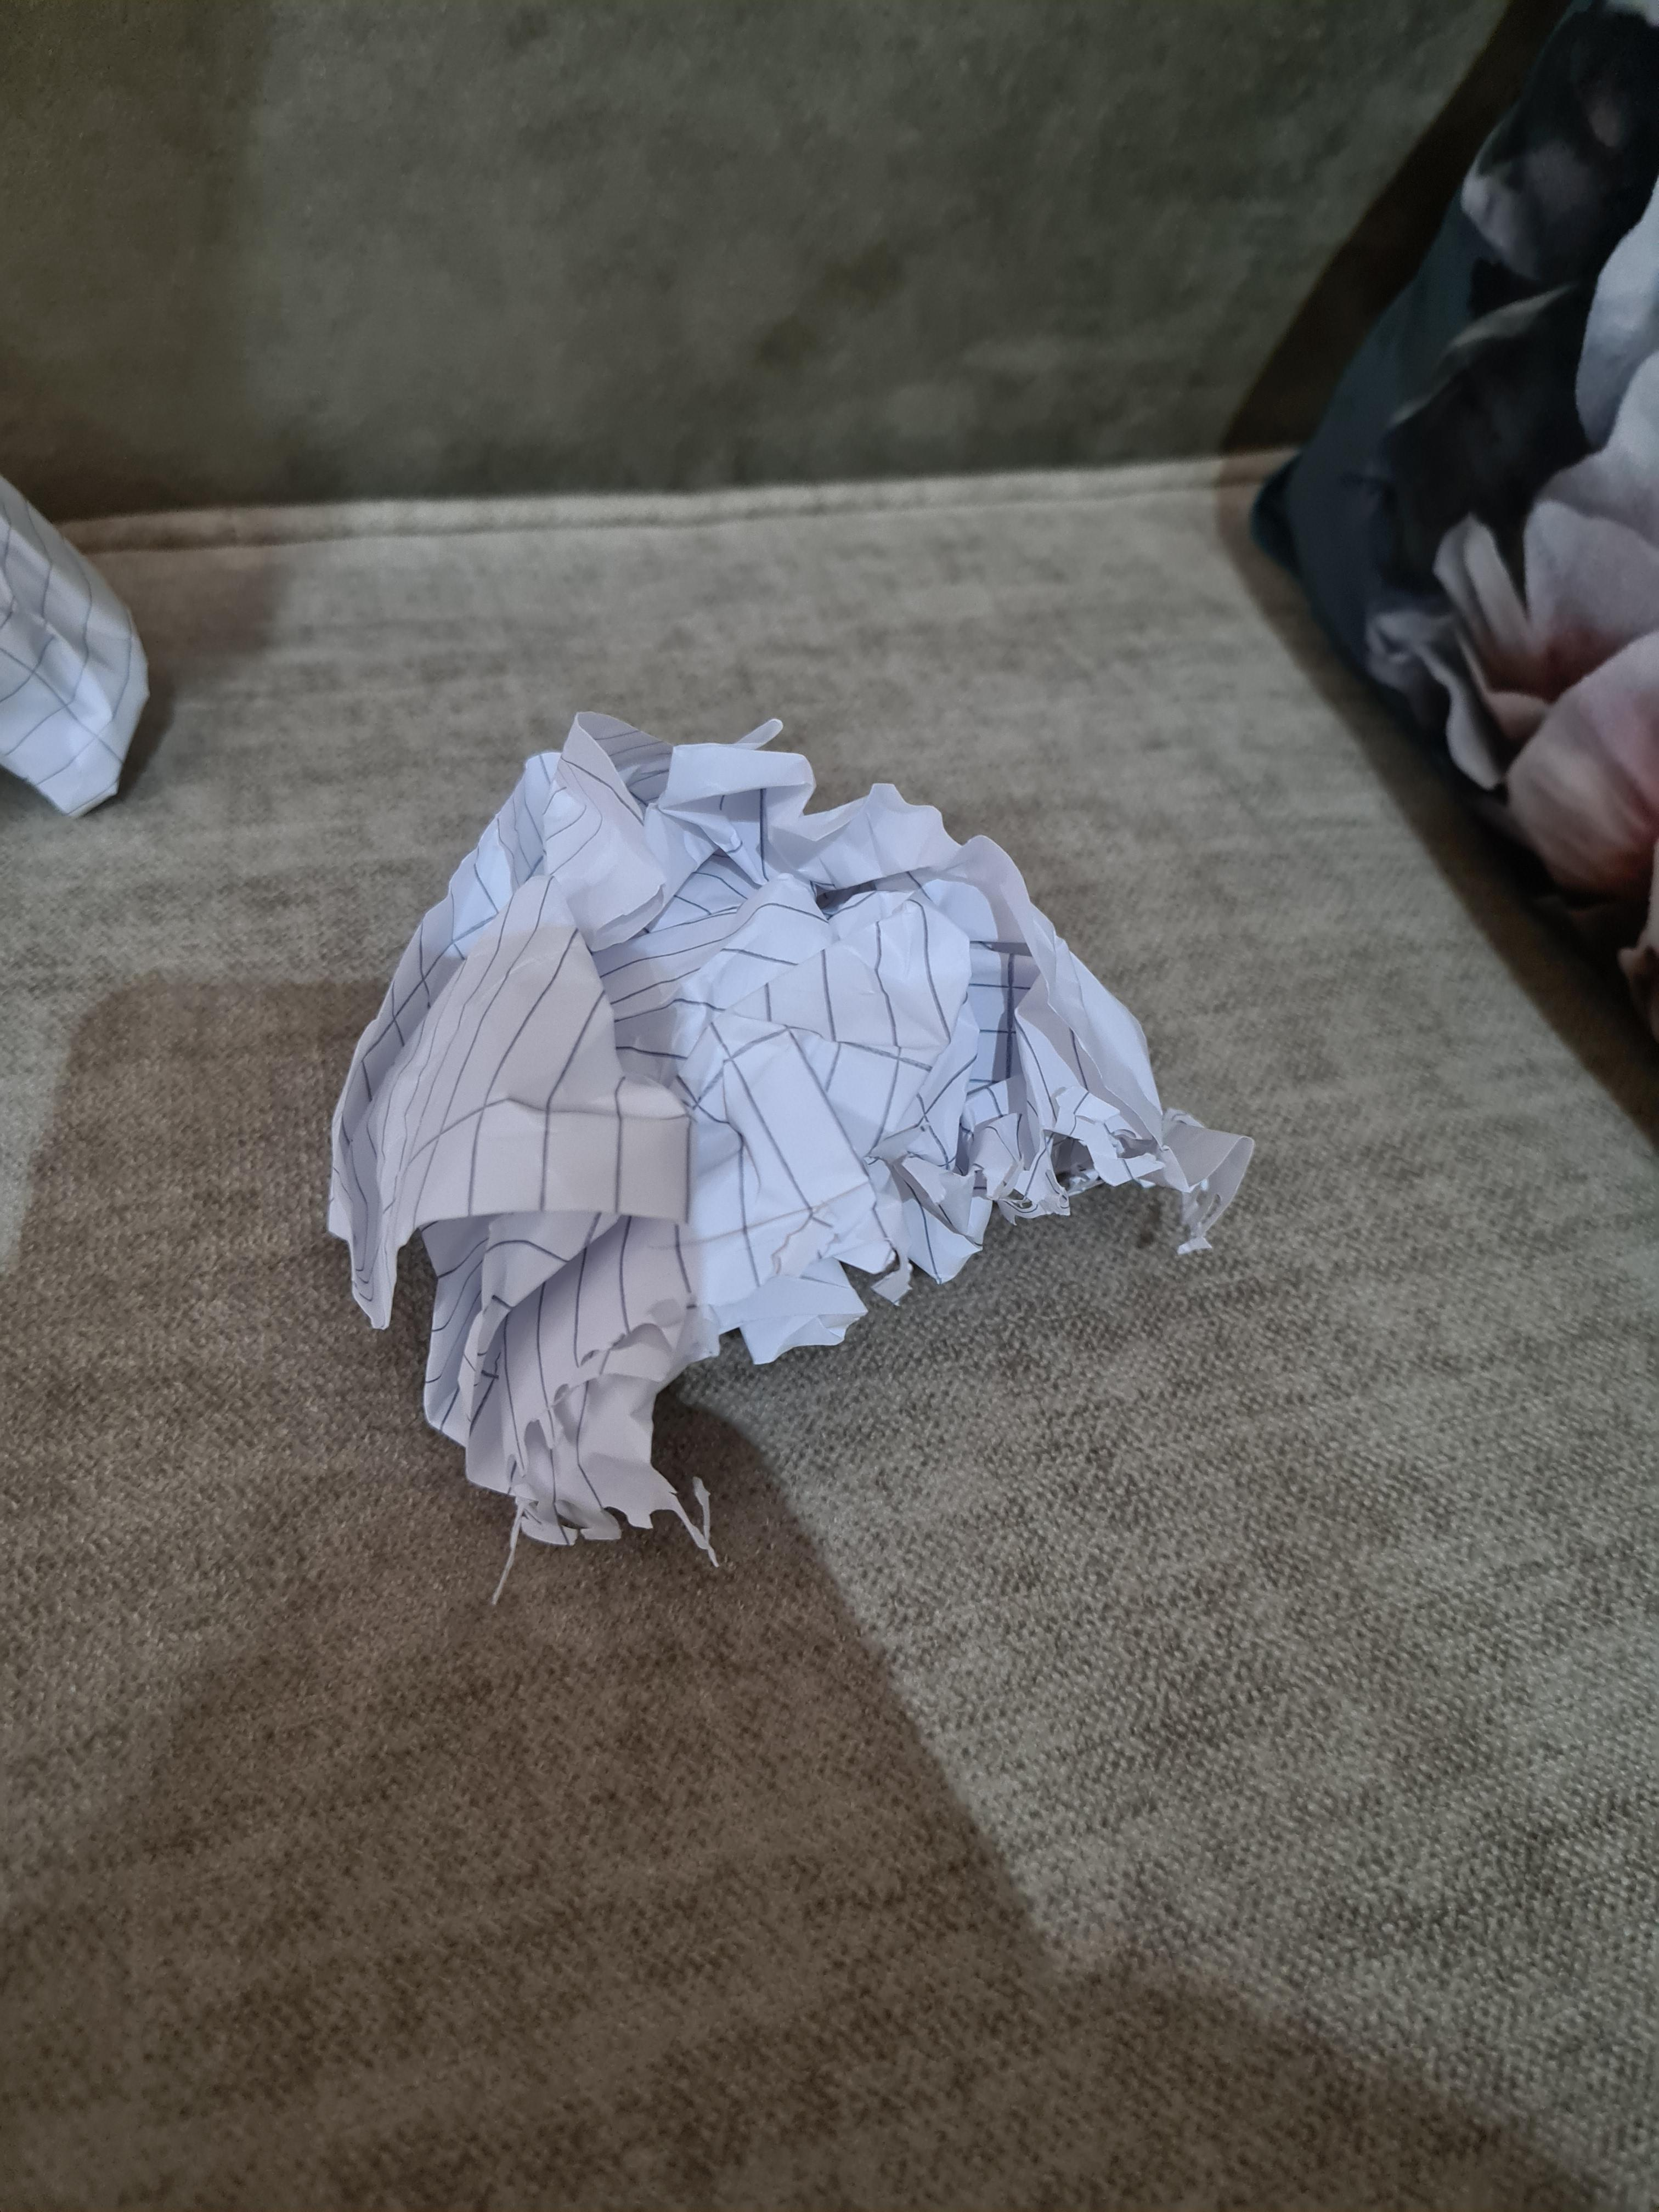Paper: (309, 703, 1229, 1532)
